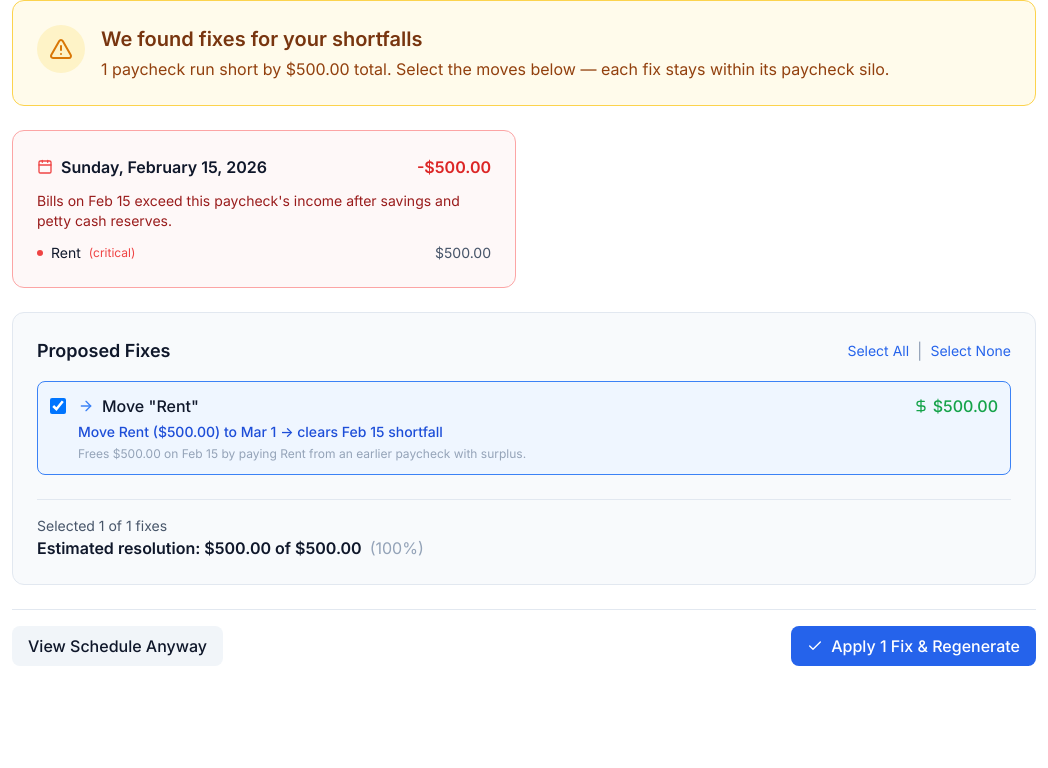
Scenario: ReconciliationPage › hostile › disables apply when all fixes are deselected
Click the button "Select None": (971,351) x1=930 y1=339 x2=1011 y2=363
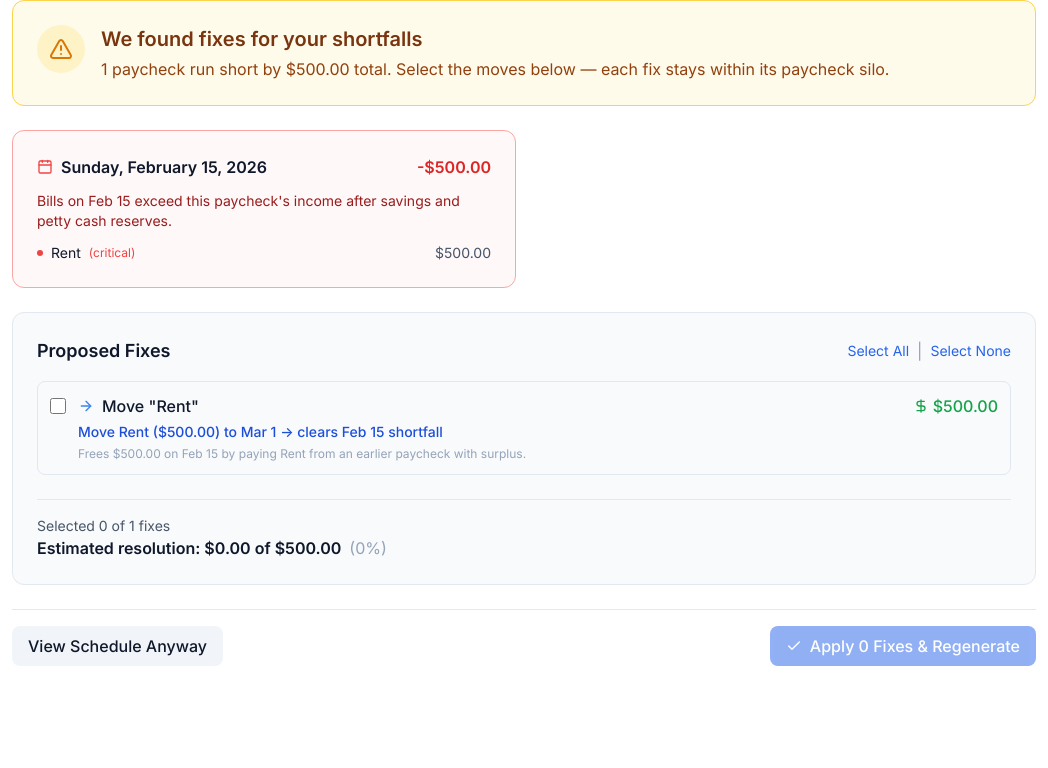
Result: the button "Apply 0 Fixes & Regenerate" is disabled at x1=770 y1=626 x2=1036 y2=666
